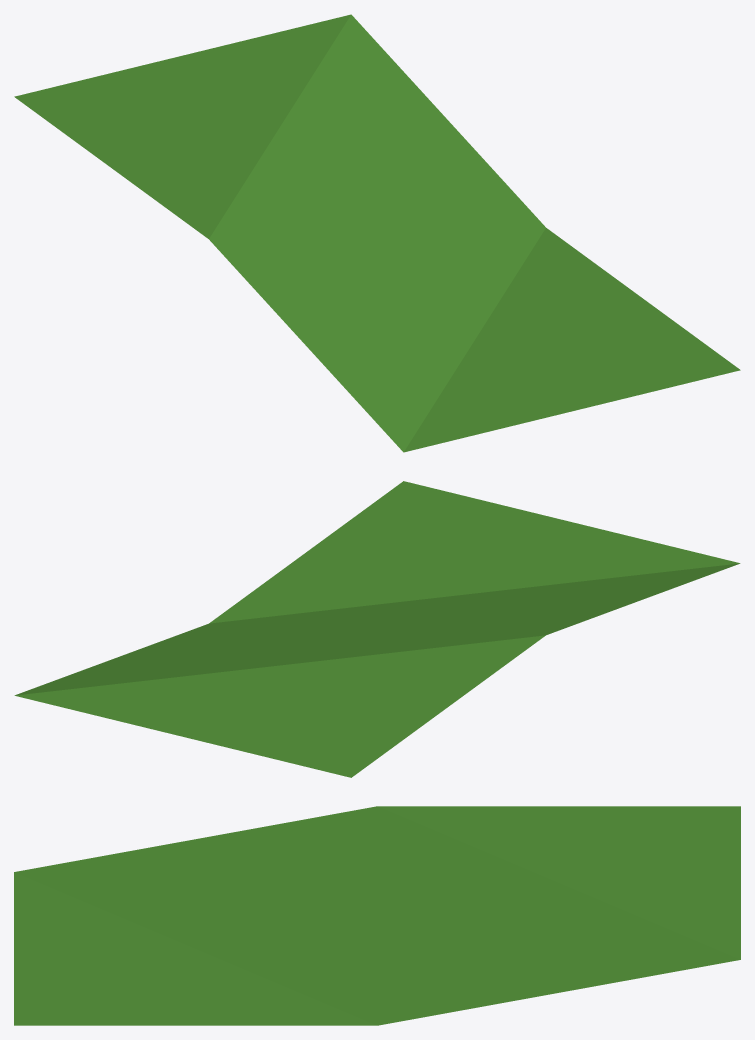
File: tiles-nb_tile-hill-curve-nb.fbx
The picture shows the model from 3 angles, top to bottom: view 1: azimuth 30°, elevation 25°; view 2: azimuth 150°, elevation 25°; view 3: azimuth 270°, elevation 25°; orthographic projection. The views are drawn at different scales.
Visible parts, largest first — view 1: tiles_nb_tile_hill_curve_nb; view 2: tiles_nb_tile_hill_curve_nb; view 3: tiles_nb_tile_hill_curve_nb.
Part boxes in pixels (box(x1,y1,x2,y2)): tiles_nb_tile_hill_curve_nb: box(14, 14, 740, 452); tiles_nb_tile_hill_curve_nb: box(14, 481, 740, 777); tiles_nb_tile_hill_curve_nb: box(14, 806, 740, 1025).
Size of the model in its own units: 100 by 20 by 200.
